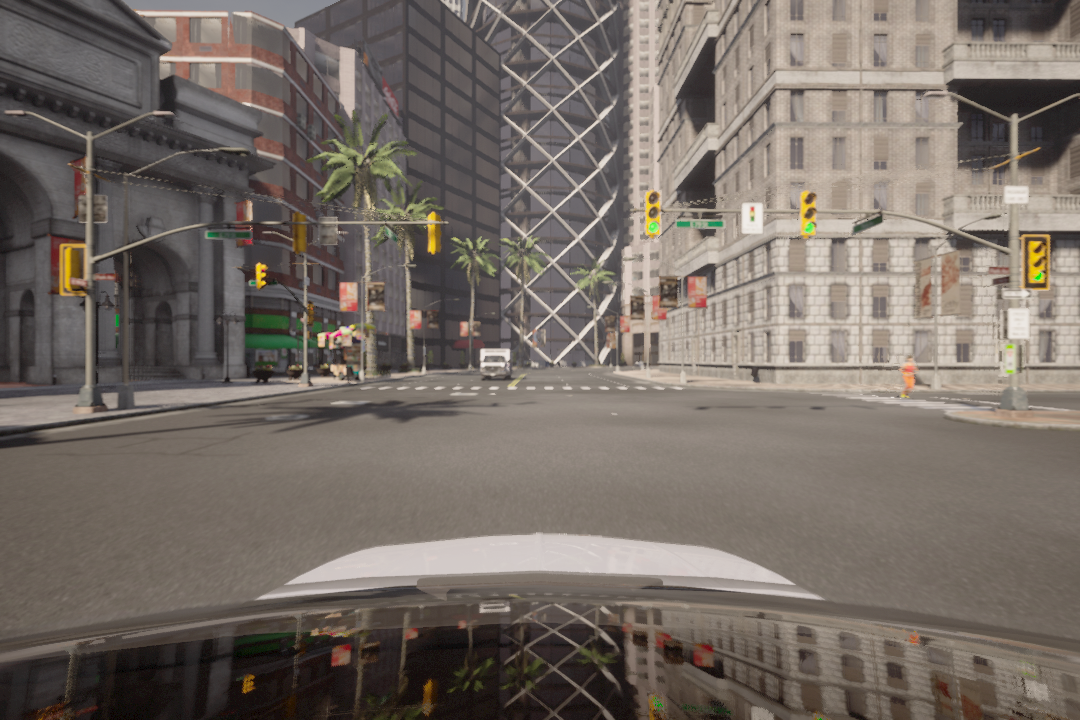TrafficLight: (1022, 234, 1051, 291), (646, 192, 662, 237), (801, 192, 816, 240), (252, 262, 268, 293)
walkside: (361, 381, 686, 397)
